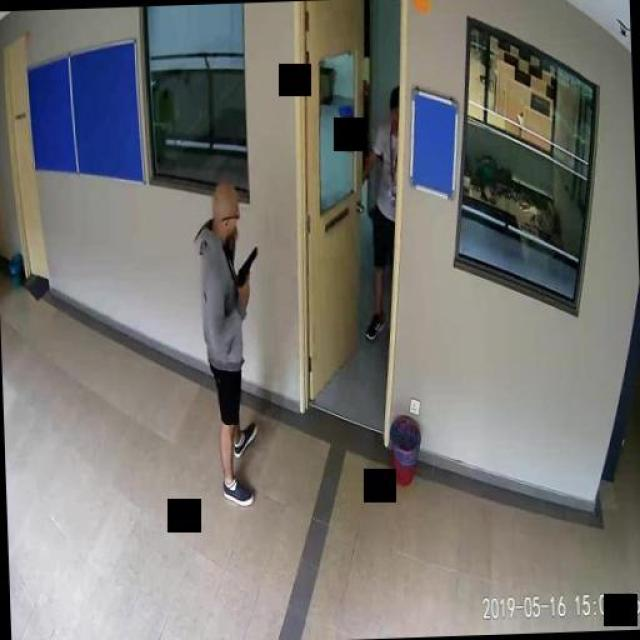gun: (235, 245, 256, 296)
